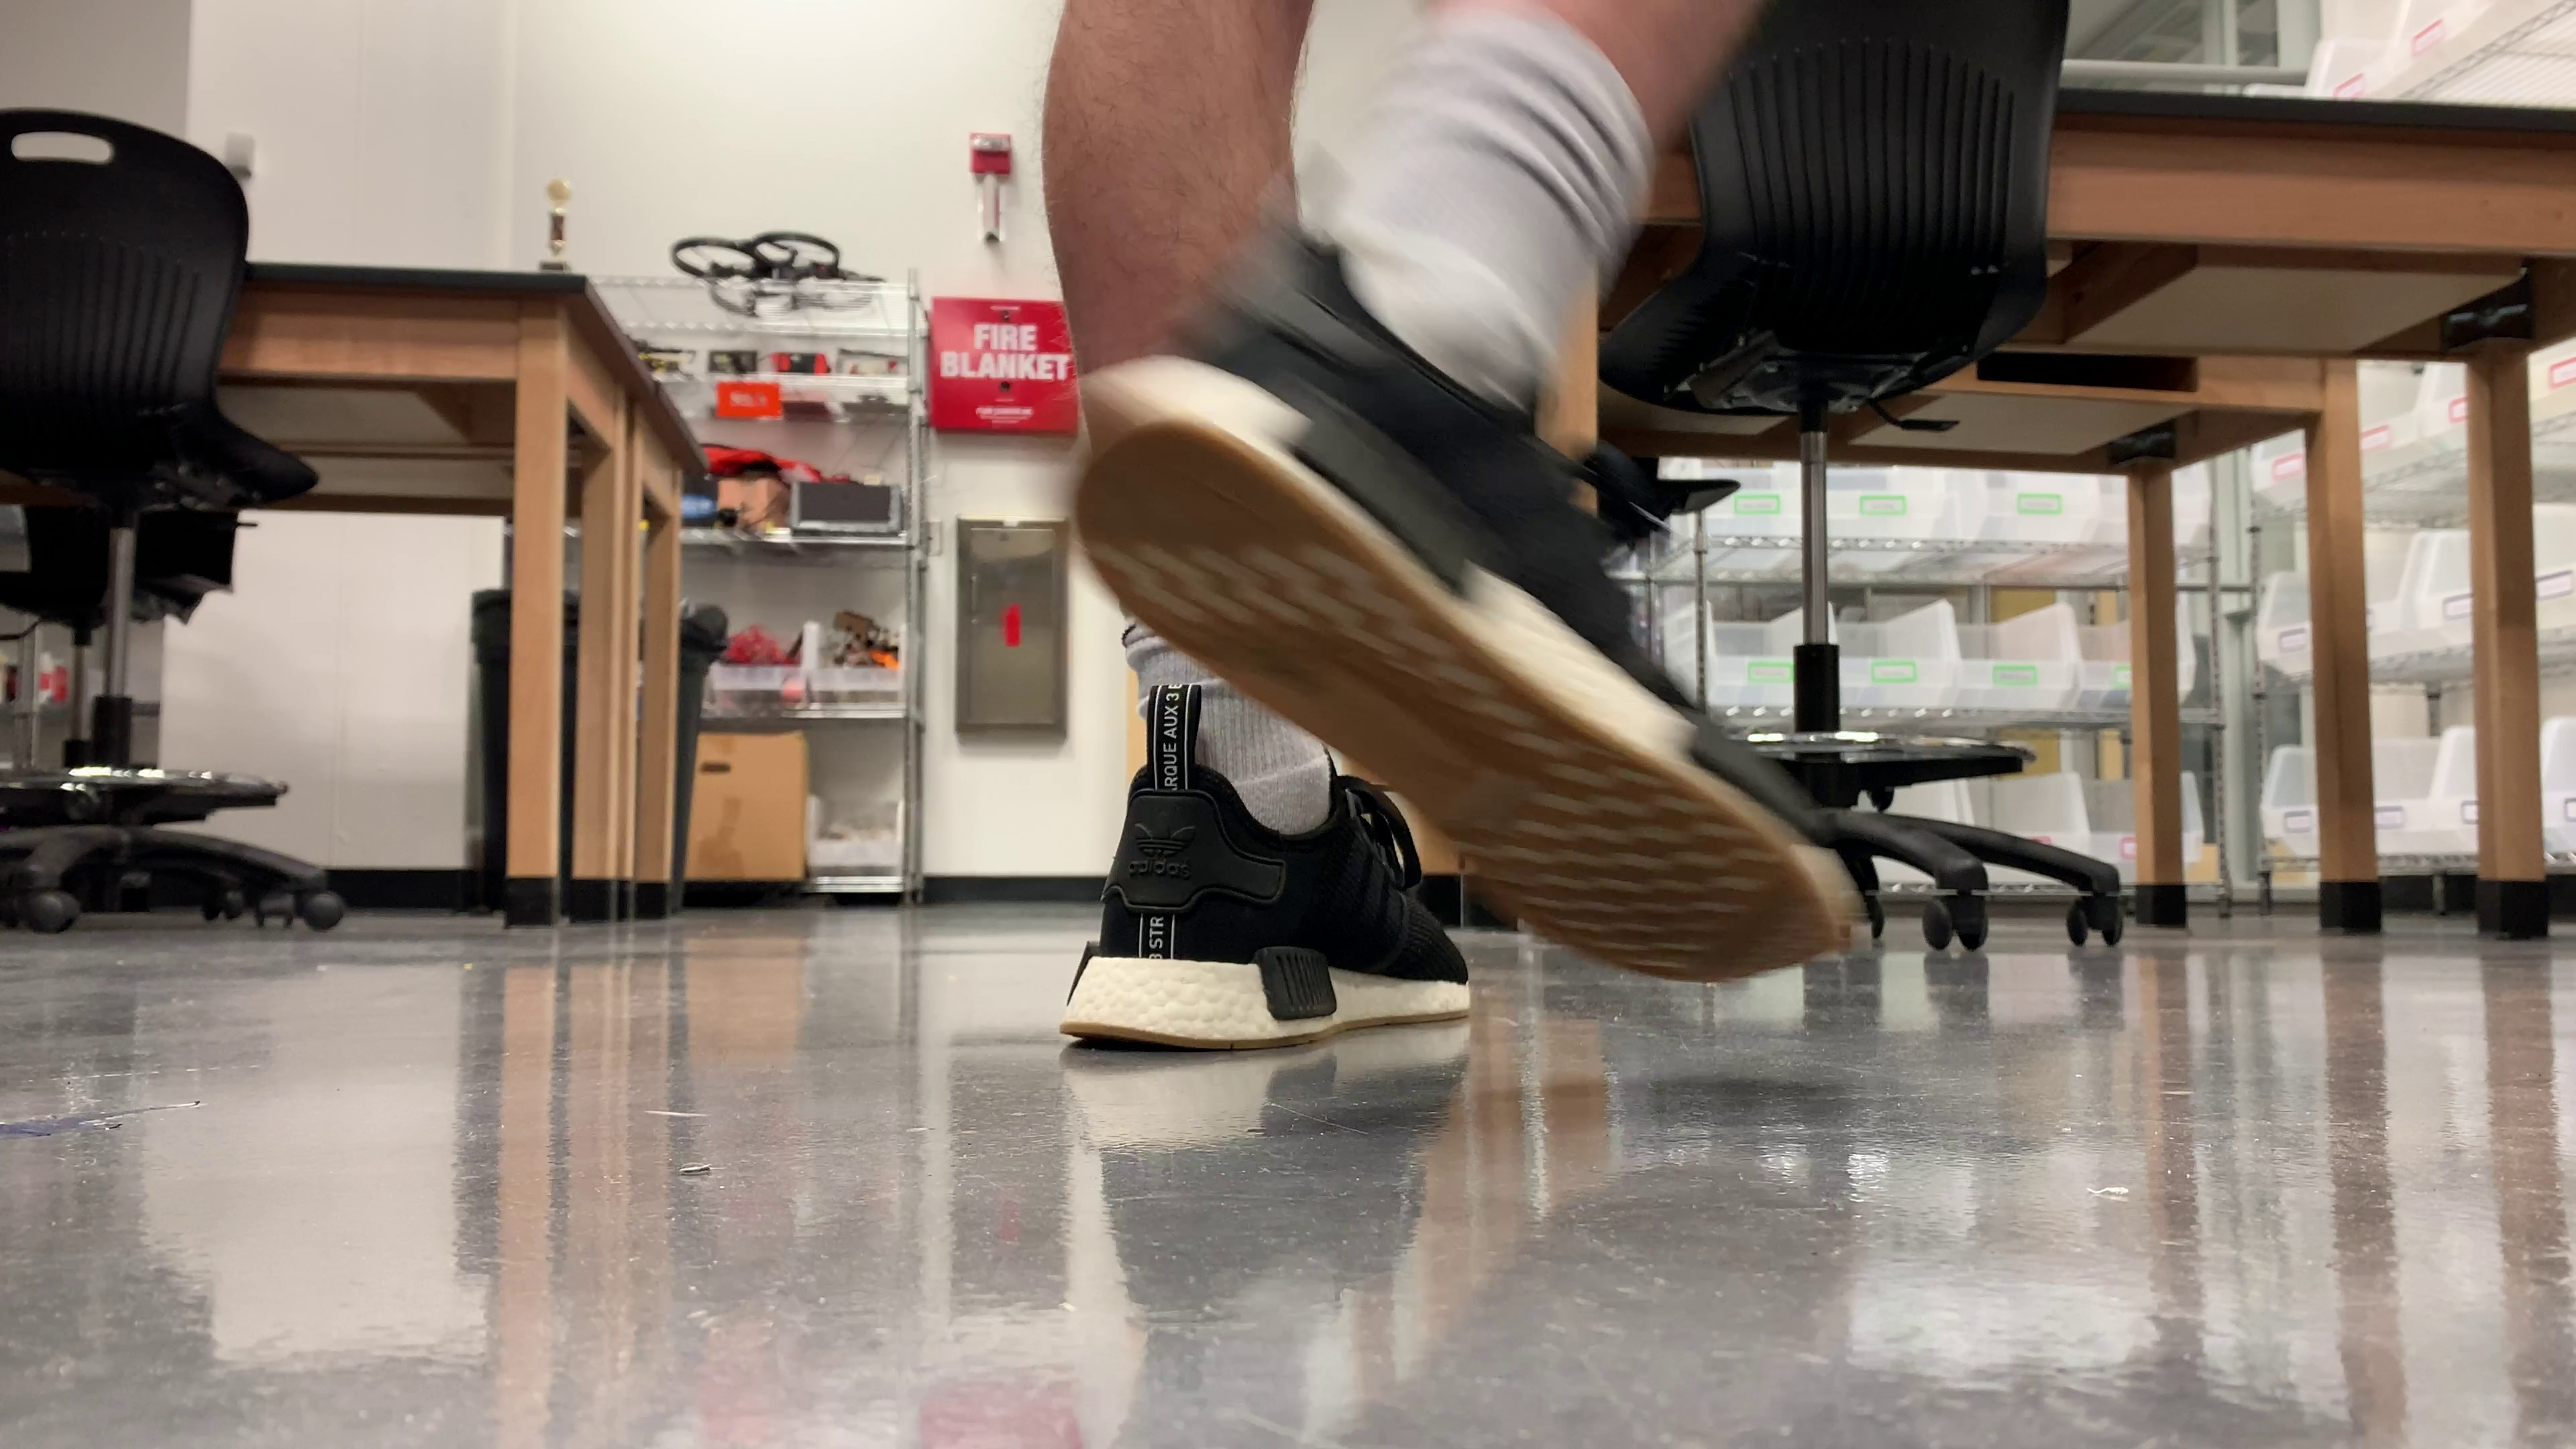shoe: (1060, 761, 1468, 1054)
